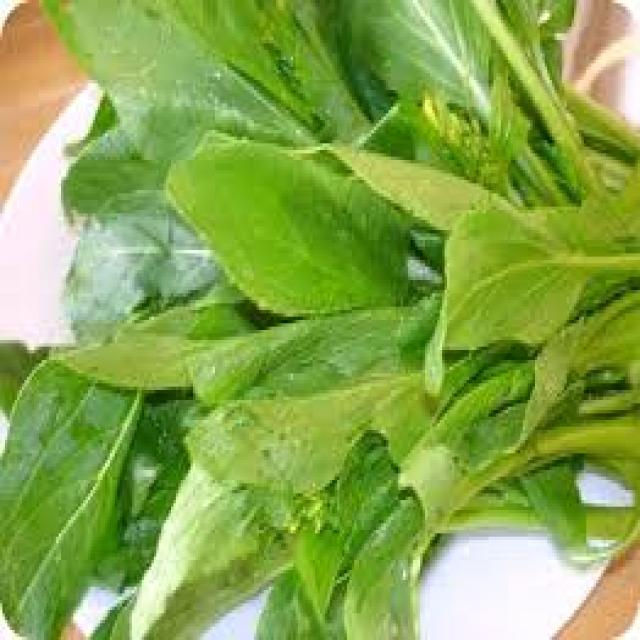bokchoy: (36, 6, 609, 500)
